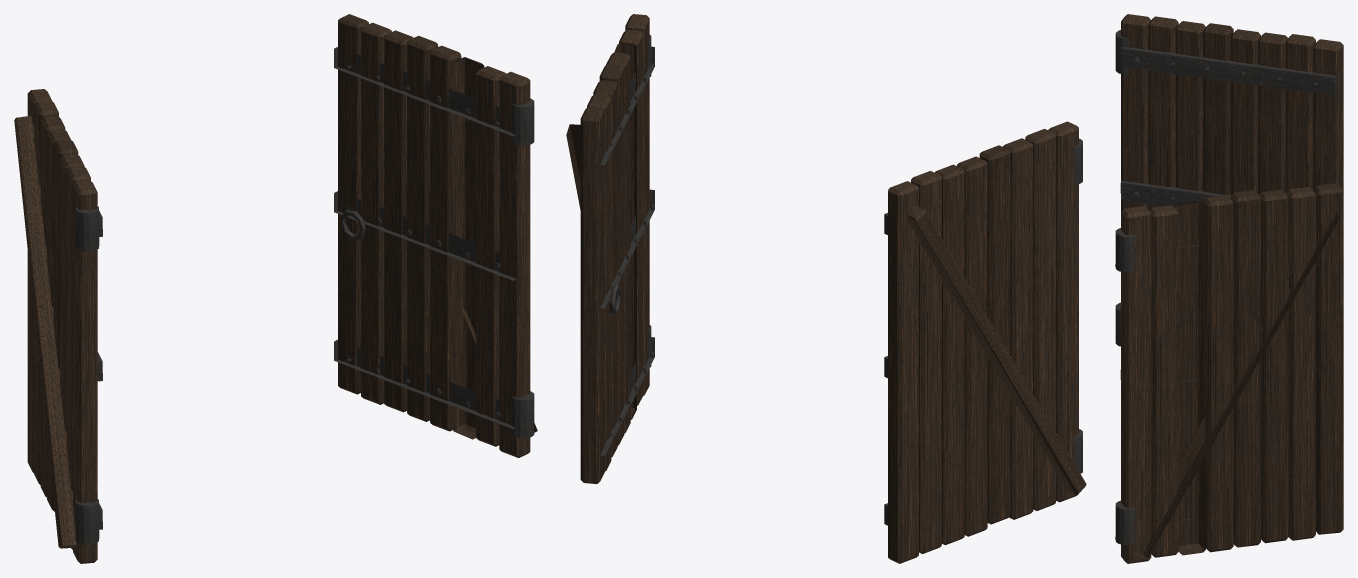
File: barrosan_open_gate_doors_lod1.glb
3 views of the same model, side by side, from view 1: azimuth 30°, elevation 25°; view 2: azimuth 150°, elevation 25°; view 3: azimuth 270°, elevation 25° (orthographic). The views are drawn at different scales.
Parts seen in each view (by area): view 1: barrosan_open_gate_doors; view 2: barrosan_open_gate_doors; view 3: barrosan_open_gate_doors.
Part boxes in pixels (left/top/right/bottom): barrosan_open_gate_doors: left=14, top=14, right=537, bottom=563; barrosan_open_gate_doors: left=566, top=14, right=1086, bottom=563; barrosan_open_gate_doors: left=1115, top=14, right=1343, bottom=563.
Size of the model in its own units: 3.52 by 2.68 by 1.57.
2 materials, 2 textured.
